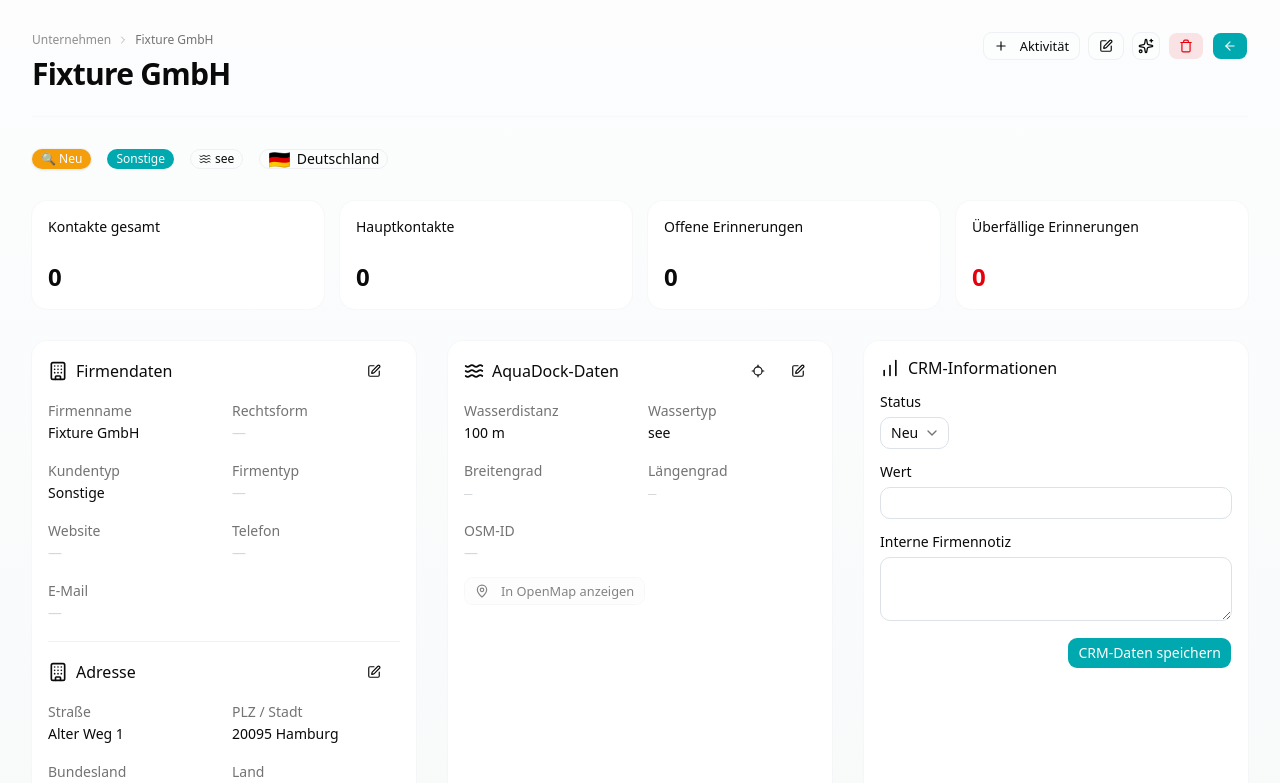
Test: CompanyDetailClient refresh after inline edits › updates Adresse card body after inline save
Expected: the text "Alter Weg 1" is shown, [48,724,124,743]
Click the button without text in the row of "Adresse" at point(378, 672), box [356,658,400,686]
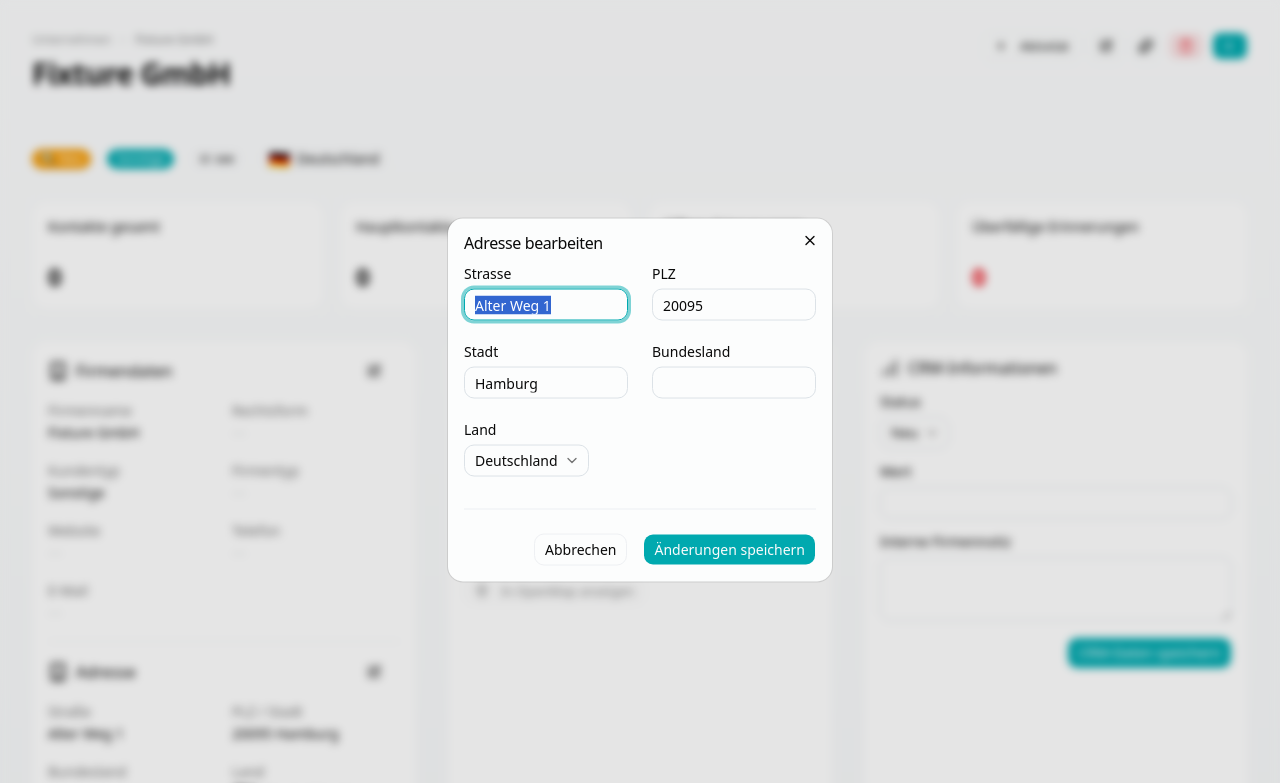
Result: the dialog "Adresse bearbeiten" is shown at [448,218,832,582]
Replace the text in the field labelled "Strasse" with "Hafenstraße 9" at point(546, 304), box [464,288,628,320]
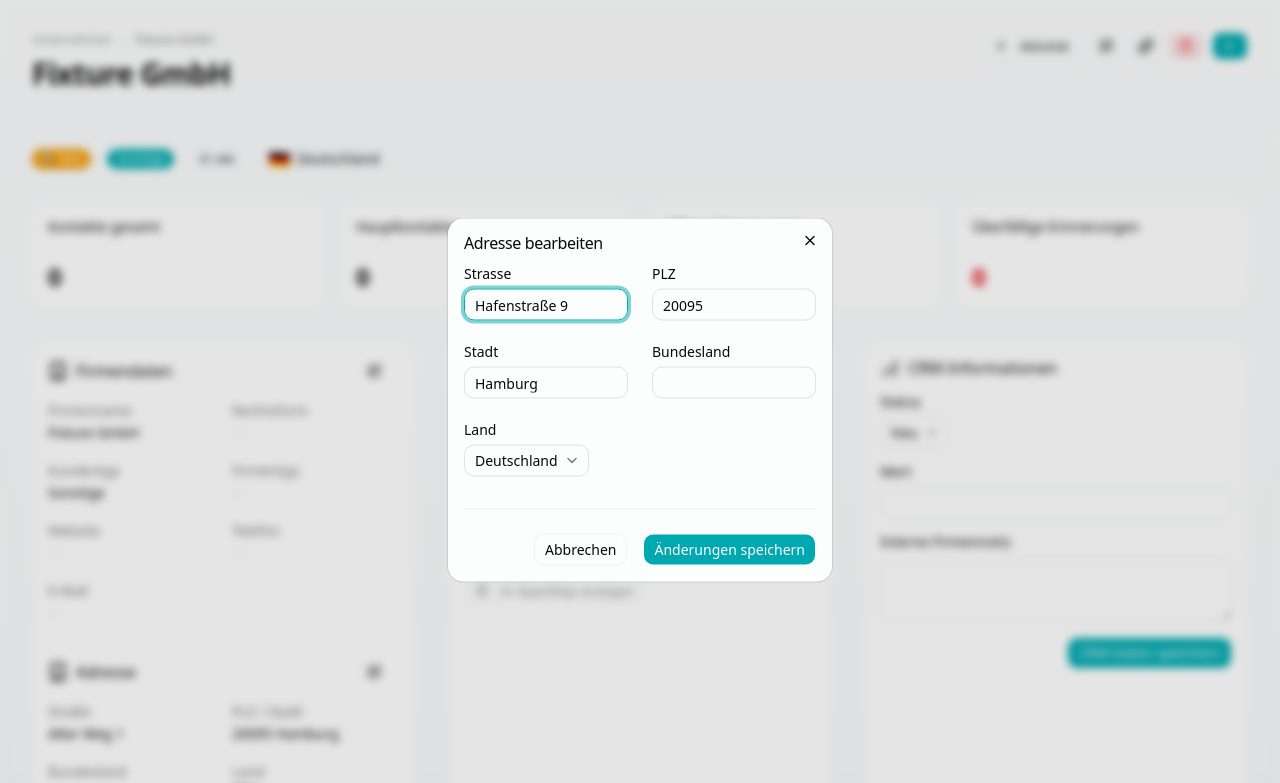
Click the button "Änderungen speichern" at point(730, 550), box [644,534,816,566]
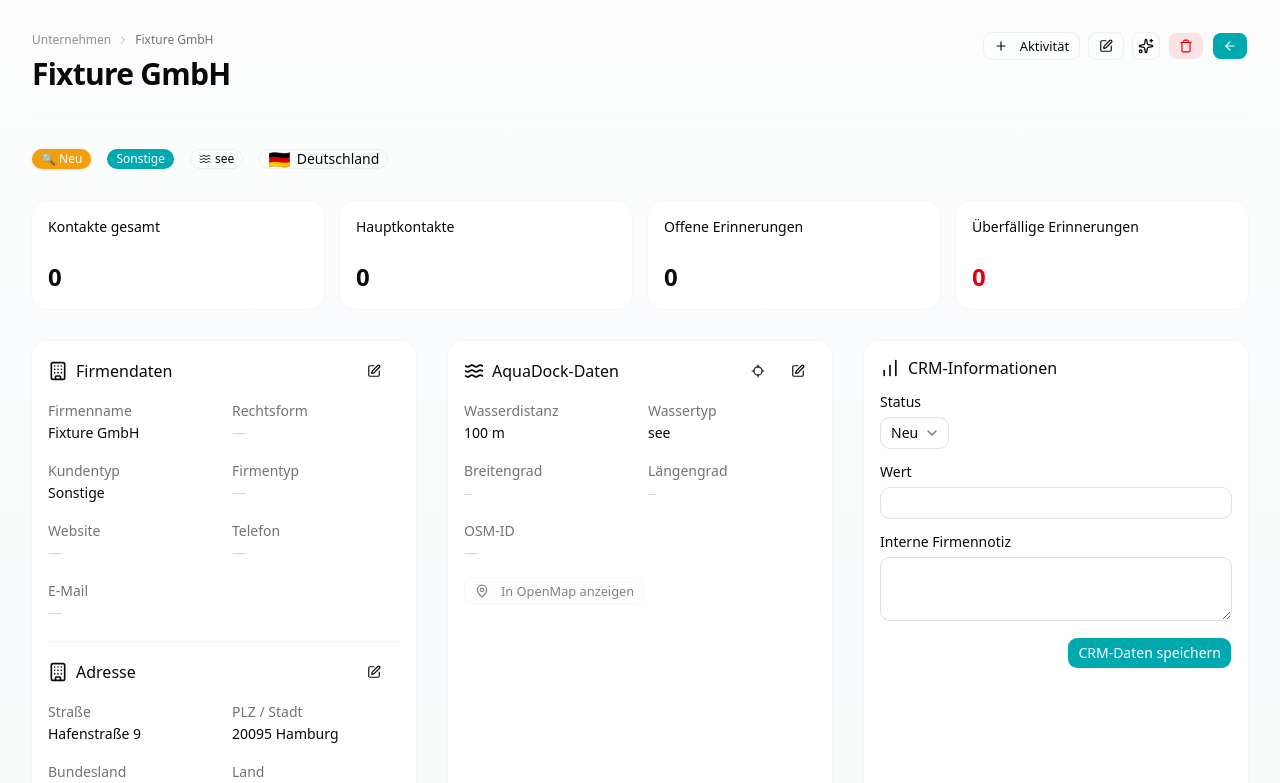
Result: the text "Hafenstraße 9" is shown at [48,724,141,743]
